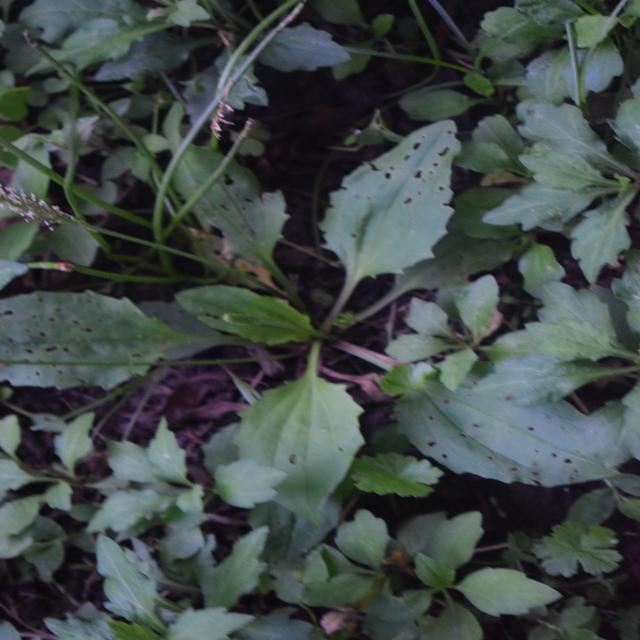plantain: (166, 34, 507, 514)
